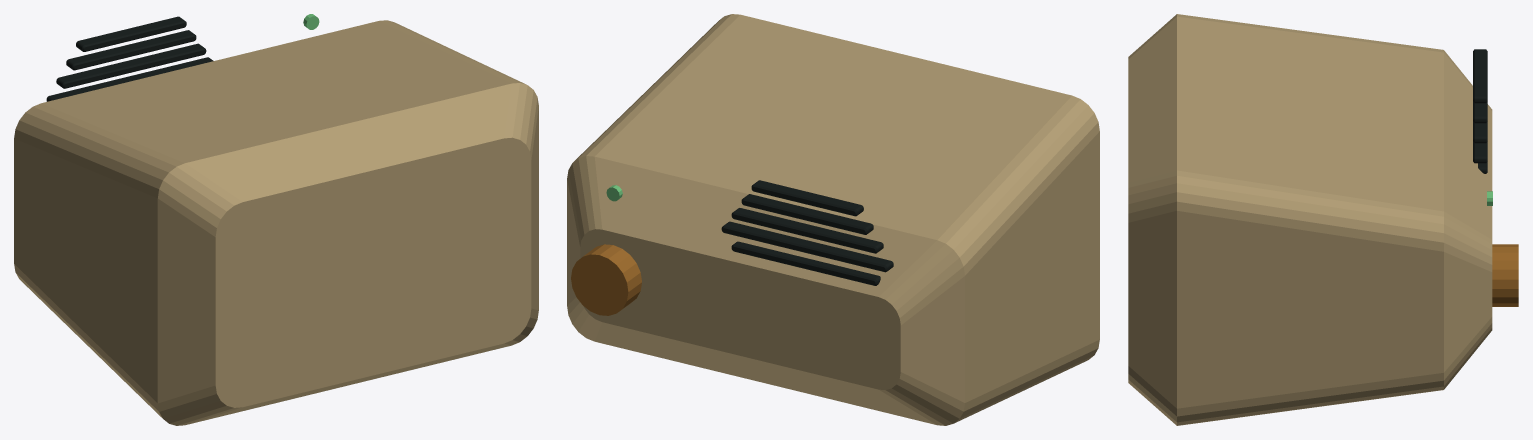
File: intercom.obj
The picture shows the model from 3 angles, left to right: view 1: azimuth 30°, elevation 25°; view 2: azimuth 150°, elevation 25°; view 3: azimuth 270°, elevation 25°; orthographic projection. The views are drawn at different scales.
Parts seen in each view (by area): view 1: body, speaker_slots; view 2: body, speaker_slots, talk_button; view 3: body, speaker_slots, talk_button.
Boxes of the visible parts, bbox=[...] form: body: bbox=[14, 20, 538, 425]; speaker_slots: bbox=[46, 16, 213, 101]; body: bbox=[567, 14, 1099, 425]; speaker_slots: bbox=[721, 180, 893, 285]; talk_button: bbox=[571, 244, 641, 315]; body: bbox=[1128, 14, 1492, 425]; speaker_slots: bbox=[1473, 49, 1487, 173]; talk_button: bbox=[1492, 244, 1518, 306].
Bounding box in the file's own units: 0.36 × 0.23 × 0.3215.
